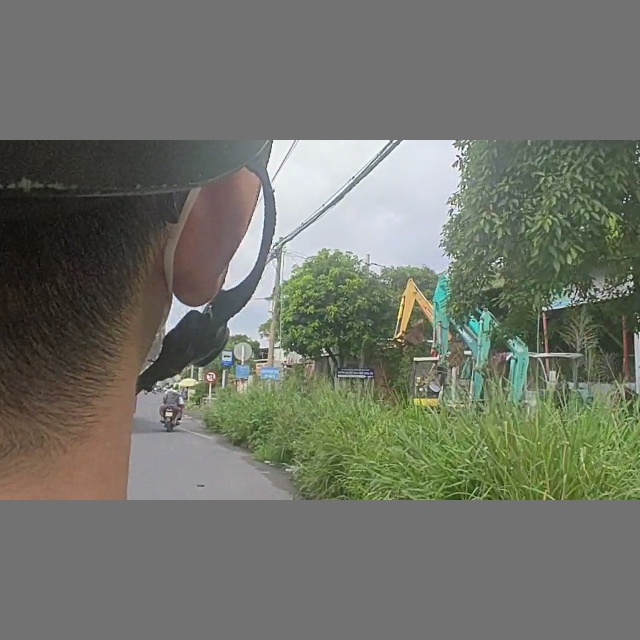I.434a: (221, 350, 234, 367)
P.123a: (203, 371, 217, 383)
